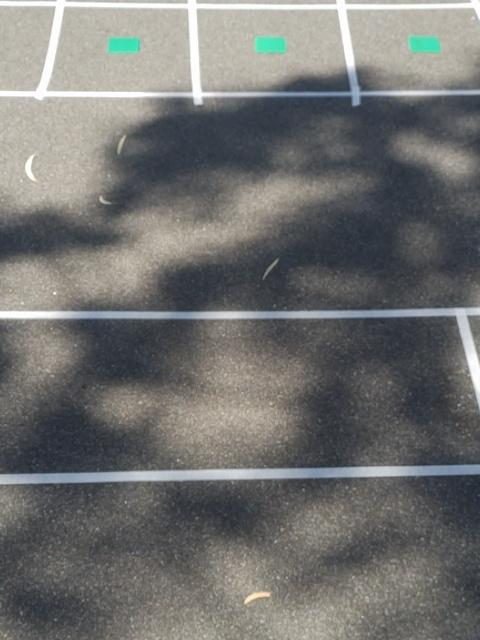weed: (253, 34, 288, 56), (106, 34, 141, 54), (407, 34, 442, 54)
